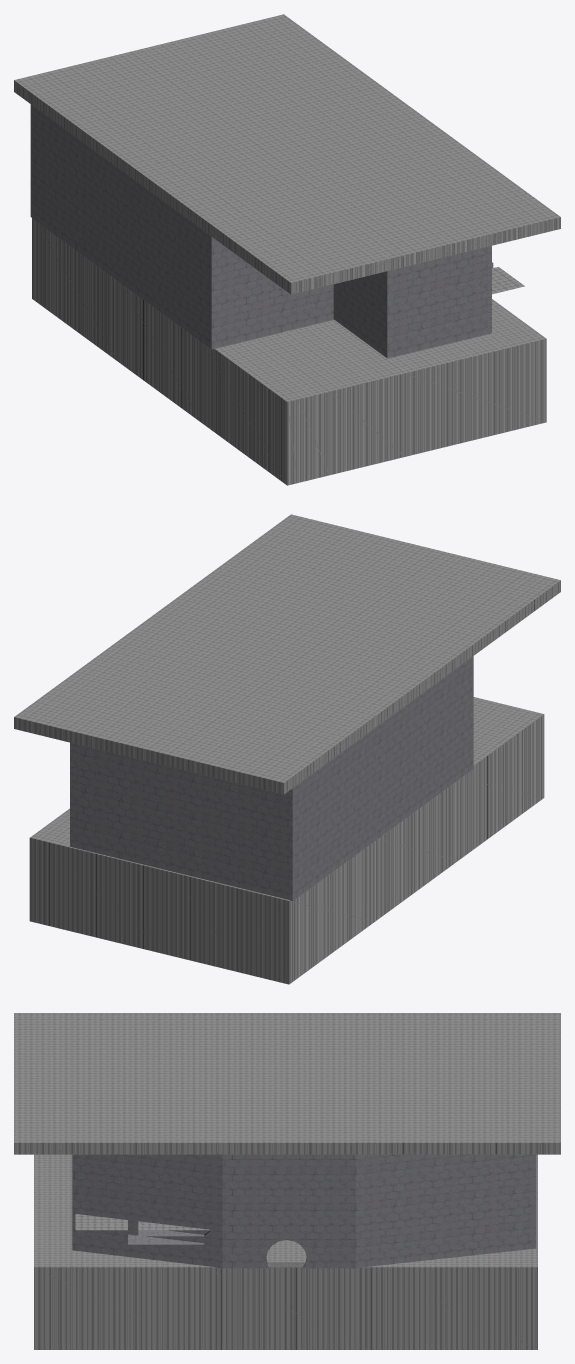
Rendered from SM_wallfloor.glb.
The picture shows the model from 3 angles, top to bottom: view 1: azimuth 30°, elevation 25°; view 2: azimuth 150°, elevation 25°; view 3: azimuth 270°, elevation 25°; orthographic projection.
Parts seen in each view (by area): view 1: Plane.002; view 2: Plane.002; view 3: Plane.002.
Part boxes in pixels (<box>): Plane.002: <box>14,14,560,485</box>; Plane.002: <box>14,514,560,984</box>; Plane.002: <box>14,1013,560,1349</box>.
Size of the model in its own units: 79.43 by 59.52 by 141.
Materials: 3 (3 with a texture image).
